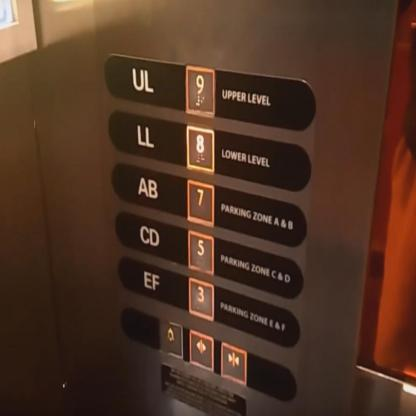3: (186, 276, 215, 322)
5: (186, 228, 215, 276)
7: (186, 176, 216, 227)
8: (185, 122, 215, 174)
9: (184, 62, 216, 120)
alarm: (156, 317, 184, 361)
close: (218, 339, 248, 386)
open: (186, 327, 215, 373)
